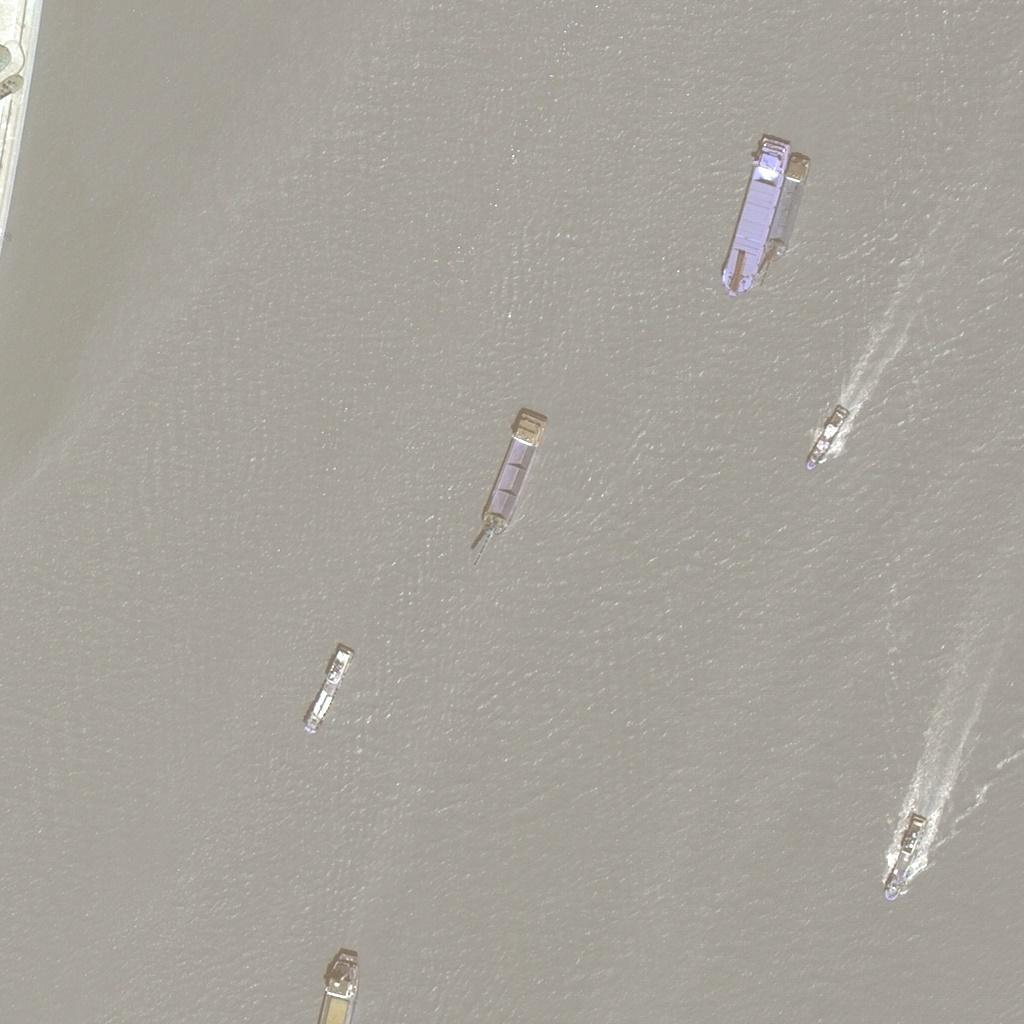ship: (469, 405, 547, 560), (761, 152, 815, 270), (887, 780, 928, 869), (809, 395, 852, 469)
